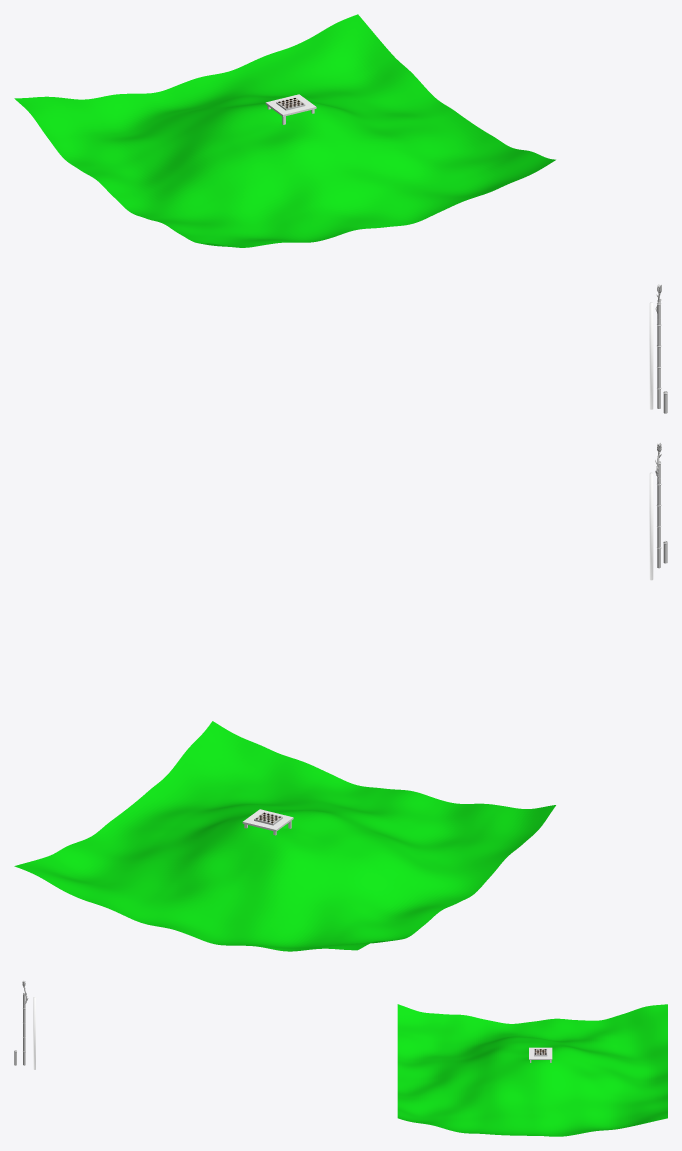
The model's file is background_test1.glb.
The picture shows the model from 3 angles, top to bottom: view 1: azimuth 30°, elevation 25°; view 2: azimuth 150°, elevation 25°; view 3: azimuth 270°, elevation 25°; orthographic projection. The views are drawn at different scales.
Visible parts, largest first — view 1: Plane; view 2: Plane; view 3: Plane, test2.
Part boxes in pixels (left/top/right/bottom): Plane: left=14, top=14, right=555, bottom=247; Plane: left=14, top=721, right=555, bottom=951; Plane: left=397, top=1004, right=667, bottom=1136; test2: left=22, top=980, right=28, bottom=1065.
Size of the model in its own units: 20 by 8.46 by 48.41.
